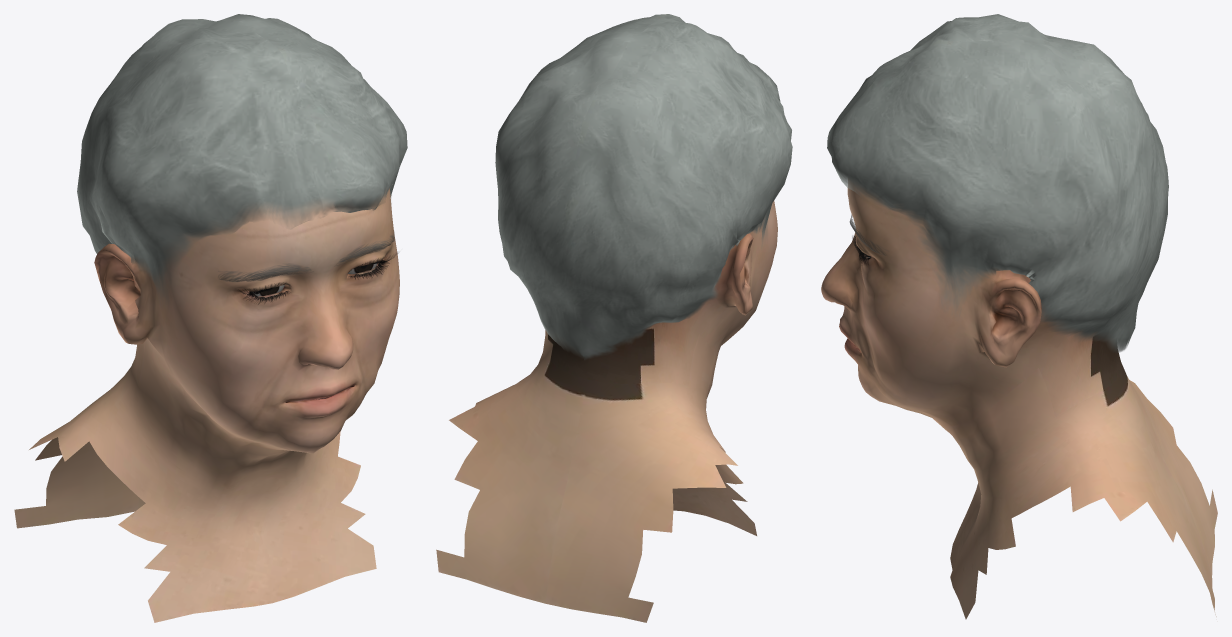
File: patient09.glb
The picture shows the model from 3 angles, left to right: view 1: azimuth 30°, elevation 25°; view 2: azimuth 150°, elevation 25°; view 3: azimuth 270°, elevation 25°; orthographic projection. The views are drawn at different scales.
Parts seen in each view (by area): view 1: boksun_halmae.body, boksun_halmae.short02, boksun_halmae.eyebrow009, boksun_halmae.eyelashes02; view 2: boksun_halmae.short02, boksun_halmae.body; view 3: boksun_halmae.short02, boksun_halmae.body.
Boxes of the visible parts, x1,y1,x2,y2 form: boksun_halmae.body: [14, 188, 399, 622]; boksun_halmae.short02: [77, 14, 407, 301]; boksun_halmae.eyebrow009: [218, 231, 394, 281]; boksun_halmae.eyelashes02: [238, 252, 397, 304]; boksun_halmae.short02: [495, 14, 792, 359]; boksun_halmae.body: [436, 200, 777, 622]; boksun_halmae.short02: [827, 14, 1168, 352]; boksun_halmae.body: [821, 179, 1217, 619].
Bounding box in the file's own units: 0.1809 × 0.3113 × 0.2067.
Materials: 8 (7 with a texture image).
